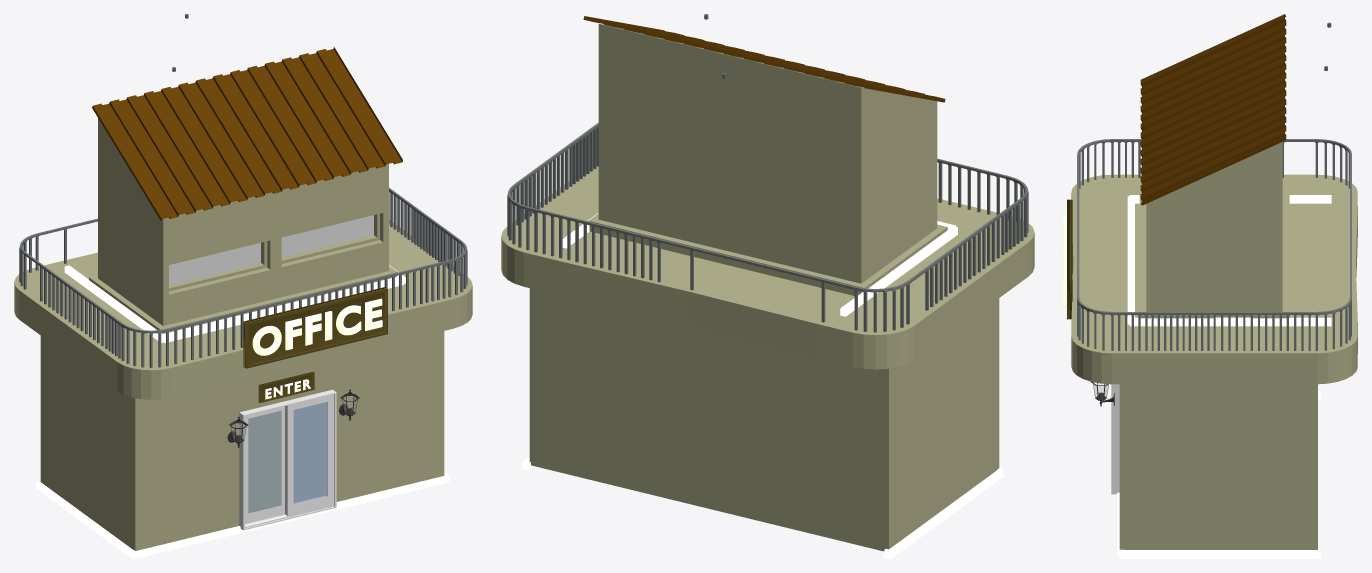
The model's file is office.fbx.
3 views of the same model, side by side, from view 1: azimuth 30°, elevation 25°; view 2: azimuth 150°, elevation 25°; view 3: azimuth 270°, elevation 25° (orthographic). The views are drawn at different scales.
Visible parts, largest first — view 1: house1, Plane, Plane.005, house1.001, Designer Series French Sliding Door_001, Cube.007, Cube.004, Cube.002, OFFICE, Cube.001; view 2: house1, Plane, house1.001, Plane.005, Cube.002, Cube.004; view 3: house1, Plane, Plane.005, house1.001, Cube.002, Cube.004, Designer Series French Sliding Door_001, Cube.007.
Part boxes in pixels (<box>): house1: <box>14,118,472,399</box>; Plane: <box>40,331,444,550</box>; Plane.005: <box>92,47,402,220</box>; house1.001: <box>19,187,467,367</box>; Designer Series French Sliding Door_001: <box>239,389,336,530</box>; Cube.007: <box>243,287,387,368</box>; Cube.004: <box>36,471,449,558</box>; Cube.002: <box>64,265,405,342</box>; OFFICE: <box>252,298,382,355</box>; Cube.001: <box>258,371,314,402</box>; house1: <box>501,24,1034,369</box>; Plane: <box>529,288,999,551</box>; house1.001: <box>507,122,1028,332</box>; Plane.005: <box>583,16,945,102</box>; Cube.002: <box>562,213,957,316</box>; Cube.004: <box>522,456,1003,558</box>; house1: <box>1071,142,1357,384</box>; Plane: <box>1119,384,1317,549</box>; Plane.005: <box>1140,14,1286,205</box>; house1.001: <box>1077,139,1351,350</box>; Cube.002: <box>1127,195,1331,326</box>; Cube.004: <box>1117,390,1320,558</box>; Designer Series French Sliding Door_001: <box>1111,384,1119,494</box>; Cube.007: <box>1067,199,1072,319</box>.
Bounding box in the file's own units: 534 × 643 × 372.
